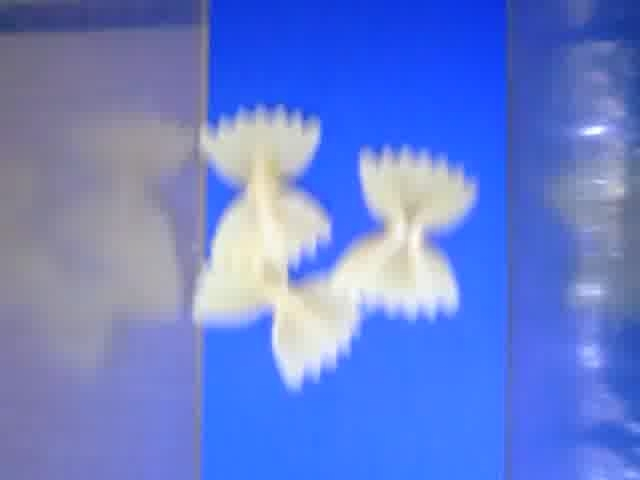farfalle: (188, 246, 360, 394), (337, 151, 482, 319), (209, 107, 336, 268)
